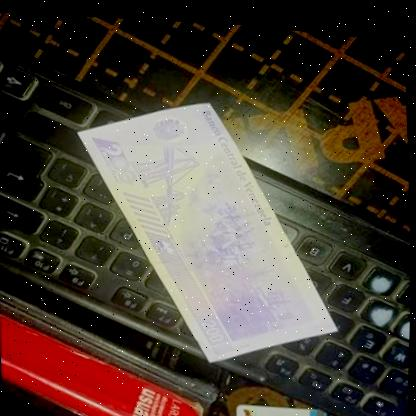two_hundred-back-vef: (70, 78, 346, 375)
